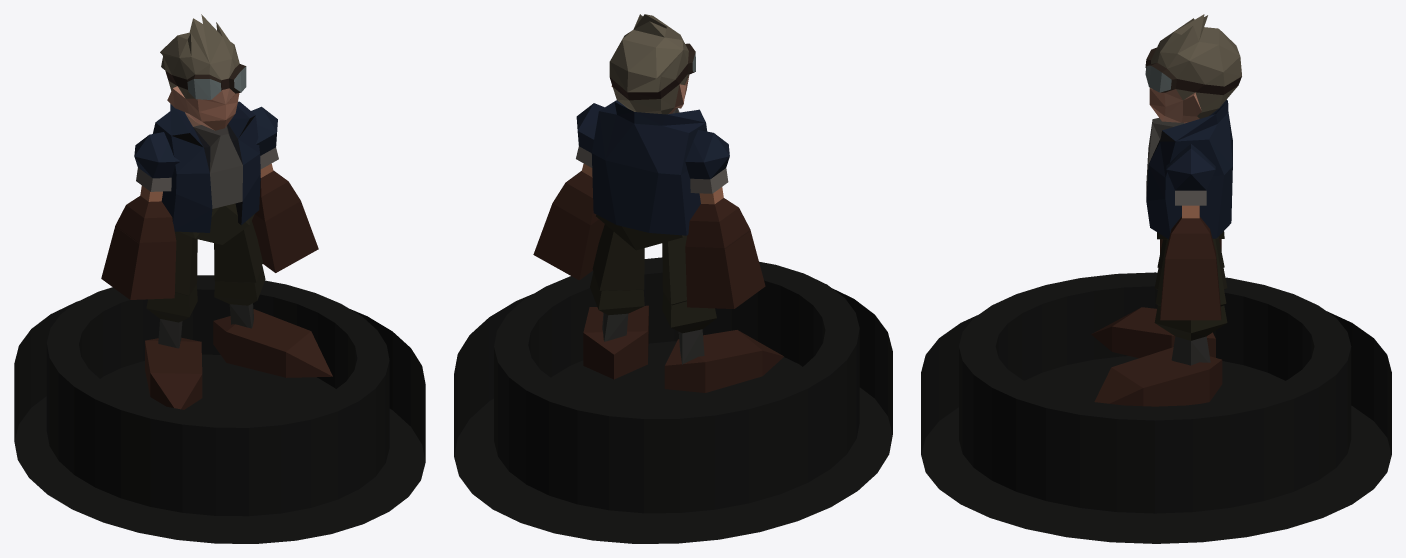
File: cid.obj
3 renders of one model, left to right at view 1: azimuth 30°, elevation 25°; view 2: azimuth 150°, elevation 25°; view 3: azimuth 270°, elevation 25°, orthographic. The views are drawn at different scales.
Parts seen in each view (by area): view 1: Mesh.013_Cylinder, Mesh.010_Converte_0_16_17_19, Mesh.015_Converte_0_39_2A_20, Mesh_Converte_0_48_25_.002_Converte_0_48_25_.004, Mesh.007_Converte_0_48_25_.001_Converte_0_48_25_.003, Mesh.009_Converte_0_48_25_.003_Converte_0_48_25_.005, Mesh.004_Converte_0_48_25_, Mesh.021_Converte_0_F5_A0_77_Converte_0_F5_A0_.001, Mesh.019_Converte_0_2B_28_, Mesh.020_Converte_0_96_8E_, Mesh.002_Converte_0_3C_3B_, Mesh.011_Converte_0_3C_3B_37 (+5 smaller); view 2: Mesh.013_Cylinder, Mesh.010_Converte_0_16_17_19, Mesh.015_Converte_0_39_2A_20, Mesh.009_Converte_0_48_25_.003_Converte_0_48_25_.005, Mesh.007_Converte_0_48_25_.001_Converte_0_48_25_.003, Mesh_Converte_0_48_25_.002_Converte_0_48_25_.004, Mesh.004_Converte_0_48_25_, Mesh.021_Converte_0_F5_A0_77_Converte_0_F5_A0_.001, Mesh.019_Converte_0_2B_28_, Mesh.020_Converte_0_96_8E_, Mesh.002_Converte_0_3C_3B_, Mesh.011_Converte_0_3C_3B_37 (+4 smaller); view 3: Mesh.013_Cylinder, Mesh.015_Converte_0_39_2A_20, Mesh.010_Converte_0_16_17_19, Mesh_Converte_0_48_25_.002_Converte_0_48_25_.004, Mesh.004_Converte_0_48_25_, Mesh.009_Converte_0_48_25_.003_Converte_0_48_25_.005, Mesh.006_Converte_0_96_8E_86, Mesh.011_Converte_0_3C_3B_37, Mesh.005_Converte_0_48_25_19.
Part boxes in pixels (bbox=[...]): Mesh.013_Cylinder: bbox=[14, 275, 425, 543]; Mesh.010_Converte_0_16_17_19: bbox=[153, 101, 260, 232]; Mesh.015_Converte_0_39_2A_20: bbox=[160, 14, 246, 130]; Mesh_Converte_0_48_25_.002_Converte_0_48_25_.004: bbox=[213, 309, 332, 377]; Mesh.007_Converte_0_48_25_.001_Converte_0_48_25_.003: bbox=[101, 225, 176, 299]; Mesh.009_Converte_0_48_25_.003_Converte_0_48_25_.005: bbox=[145, 337, 202, 409]; Mesh.004_Converte_0_48_25_: bbox=[252, 201, 318, 272]; Mesh.021_Converte_0_F5_A0_77_Converte_0_F5_A0_.001: bbox=[115, 185, 176, 242]; Mesh.019_Converte_0_2B_28_: bbox=[214, 221, 262, 282]; Mesh.020_Converte_0_96_8E_: bbox=[134, 132, 180, 191]; Mesh.002_Converte_0_3C_3B_: bbox=[146, 284, 197, 348]; Mesh.011_Converte_0_3C_3B_37: bbox=[214, 265, 265, 328]; Mesh.013_Cylinder: bbox=[454, 257, 892, 543]; Mesh.010_Converte_0_16_17_19: bbox=[591, 100, 707, 235]; Mesh.015_Converte_0_39_2A_20: bbox=[609, 14, 695, 114]; Mesh.009_Converte_0_48_25_.003_Converte_0_48_25_.005: bbox=[664, 330, 783, 392]; Mesh.007_Converte_0_48_25_.001_Converte_0_48_25_.003: bbox=[685, 229, 765, 308]; Mesh_Converte_0_48_25_.002_Converte_0_48_25_.004: bbox=[583, 305, 648, 379]; Mesh.004_Converte_0_48_25_: bbox=[533, 203, 604, 280]; Mesh.021_Converte_0_F5_A0_77_Converte_0_F5_A0_.001: bbox=[685, 187, 749, 248]; Mesh.019_Converte_0_2B_28_: bbox=[592, 224, 644, 290]; Mesh.020_Converte_0_96_8E_: bbox=[685, 130, 729, 193]; Mesh.002_Converte_0_3C_3B_: bbox=[662, 292, 716, 364]; Mesh.011_Converte_0_3C_3B_37: bbox=[590, 272, 644, 341]; Mesh.013_Cylinder: bbox=[921, 272, 1391, 543]; Mesh.015_Converte_0_39_2A_20: bbox=[1145, 14, 1241, 123]; Mesh.010_Converte_0_16_17_19: bbox=[1146, 99, 1232, 239]; Mesh_Converte_0_48_25_.002_Converte_0_48_25_.004: bbox=[1094, 347, 1222, 406]; Mesh.004_Converte_0_48_25_: bbox=[1160, 257, 1221, 320]; Mesh.009_Converte_0_48_25_.003_Converte_0_48_25_.005: bbox=[1091, 307, 1215, 358]; Mesh.006_Converte_0_96_8E_86: bbox=[1166, 144, 1215, 205]; Mesh.011_Converte_0_3C_3B_37: bbox=[1154, 305, 1227, 365]; Mesh.005_Converte_0_48_25_19: bbox=[1165, 205, 1216, 258].
Size of the model in its own units: 65.18 by 75.89 by 73.02.
